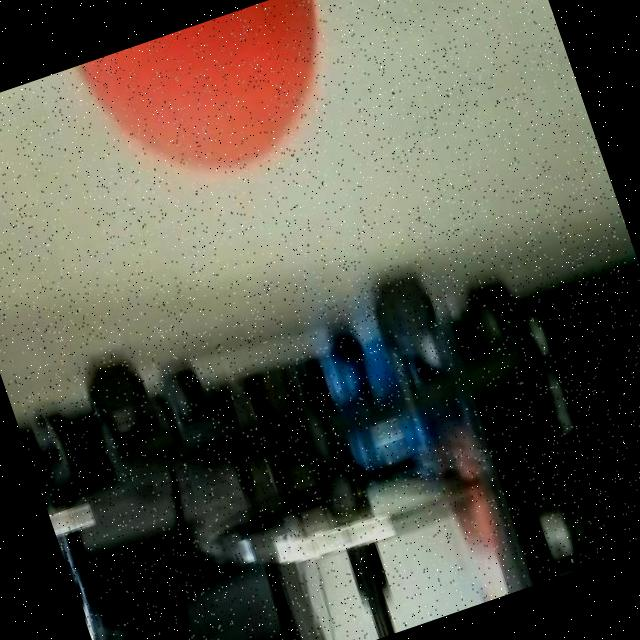ping-pong-ball: (71, 0, 370, 221)
